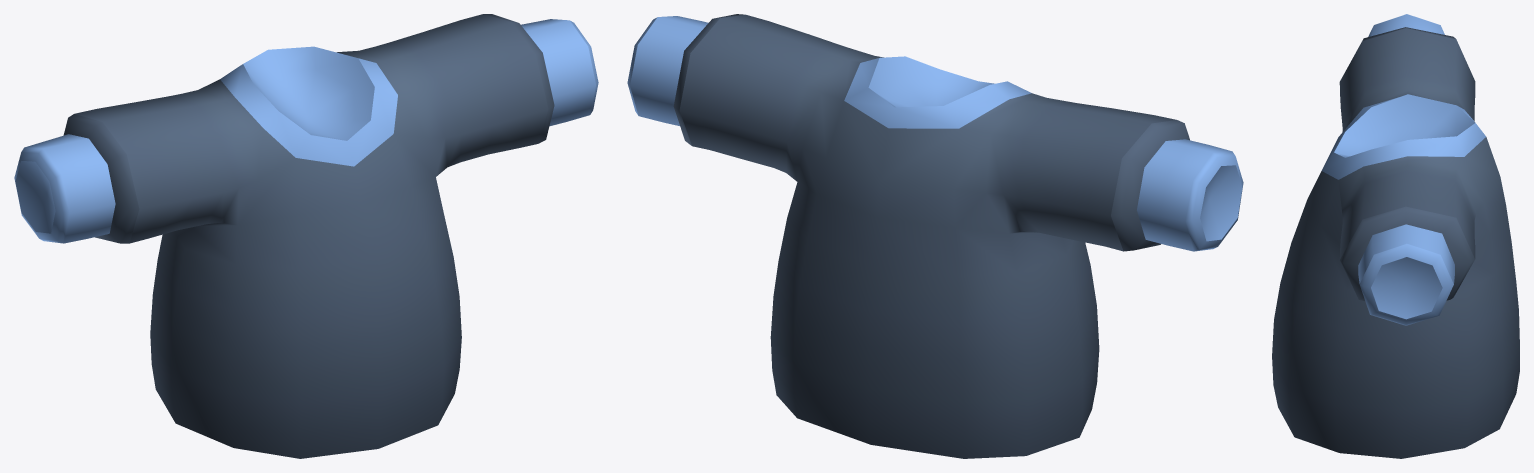
The model's file is Top_13.fbx.
The picture shows the model from 3 angles, left to right: view 1: azimuth 30°, elevation 25°; view 2: azimuth 150°, elevation 25°; view 3: azimuth 270°, elevation 25°; orthographic projection. The views are drawn at different scales.
Parts seen in each view (by area): view 1: Top_13; view 2: Top_13; view 3: Top_13.
Boxes of the visible parts, left/top/right/bottom form: Top_13: left=14, top=14, right=598, bottom=458; Top_13: left=627, top=14, right=1243, bottom=458; Top_13: left=1272, top=14, right=1519, bottom=458.
Size of the model in its own units: 80.73 by 46.22 by 35.79.
